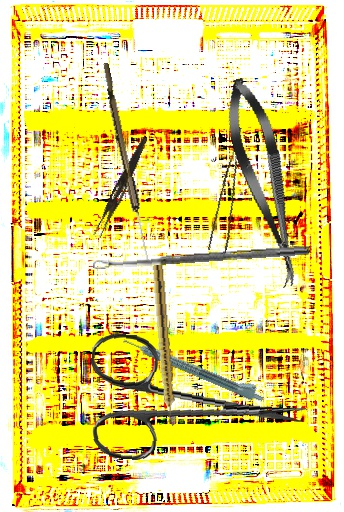Dressing Forceps: (93, 134, 149, 240)
Handpiece: (121, 329, 268, 405), (149, 264, 177, 424)
Iris Scissors: (83, 331, 312, 475)
Micro Scissor: (216, 73, 314, 292)
Surgical Spoon: (98, 62, 154, 262), (92, 244, 311, 270)
Tissue Forceps: (202, 127, 262, 255)
